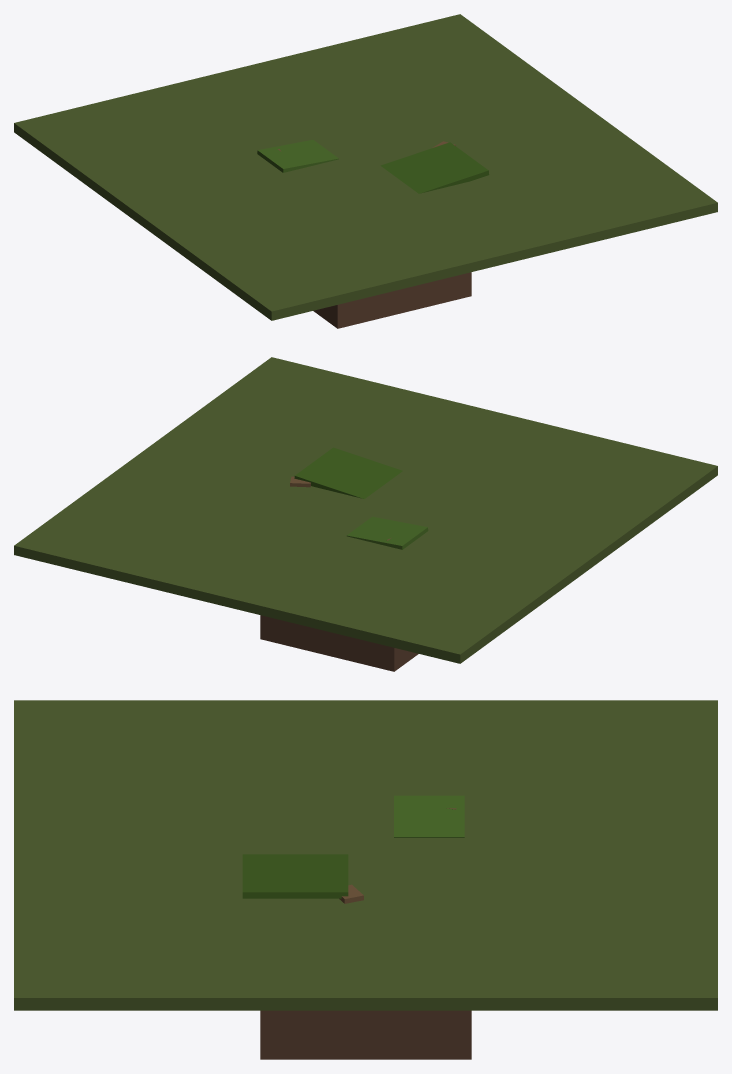
Rendered from punji-trap.glb.
3 renders of one model, top to bottom at view 1: azimuth 30°, elevation 25°; view 2: azimuth 150°, elevation 25°; view 3: azimuth 270°, elevation 25°, orthographic. The views are drawn at different scales.
Visible parts, largest first — view 1: Mesh_GroundSurface, Mesh_PitWalls, Mesh_CoverLeaf, Mesh_CoverLeaf2; view 2: Mesh_GroundSurface, Mesh_PitWalls, Mesh_CoverLeaf, Mesh_CoverLeaf2; view 3: Mesh_GroundSurface, Mesh_PitWalls, Mesh_CoverLeaf, Mesh_CoverLeaf2.
Part boxes in pixels (bbox=[...]): Mesh_GroundSurface: bbox=[14, 14, 717, 320]; Mesh_PitWalls: bbox=[313, 272, 471, 328]; Mesh_CoverLeaf: bbox=[380, 142, 489, 193]; Mesh_CoverLeaf2: bbox=[257, 140, 338, 172]; Mesh_GroundSurface: bbox=[14, 357, 717, 663]; Mesh_PitWalls: bbox=[260, 615, 418, 671]; Mesh_CoverLeaf: bbox=[294, 447, 402, 498]; Mesh_CoverLeaf2: bbox=[346, 516, 428, 549]; Mesh_GroundSurface: bbox=[14, 700, 717, 1010]; Mesh_PitWalls: bbox=[260, 1010, 471, 1059]; Mesh_CoverLeaf: bbox=[242, 854, 348, 898]; Mesh_CoverLeaf2: bbox=[394, 795, 464, 837].
Bounding box in the file's own units: 2 × 0.5474 × 2.
